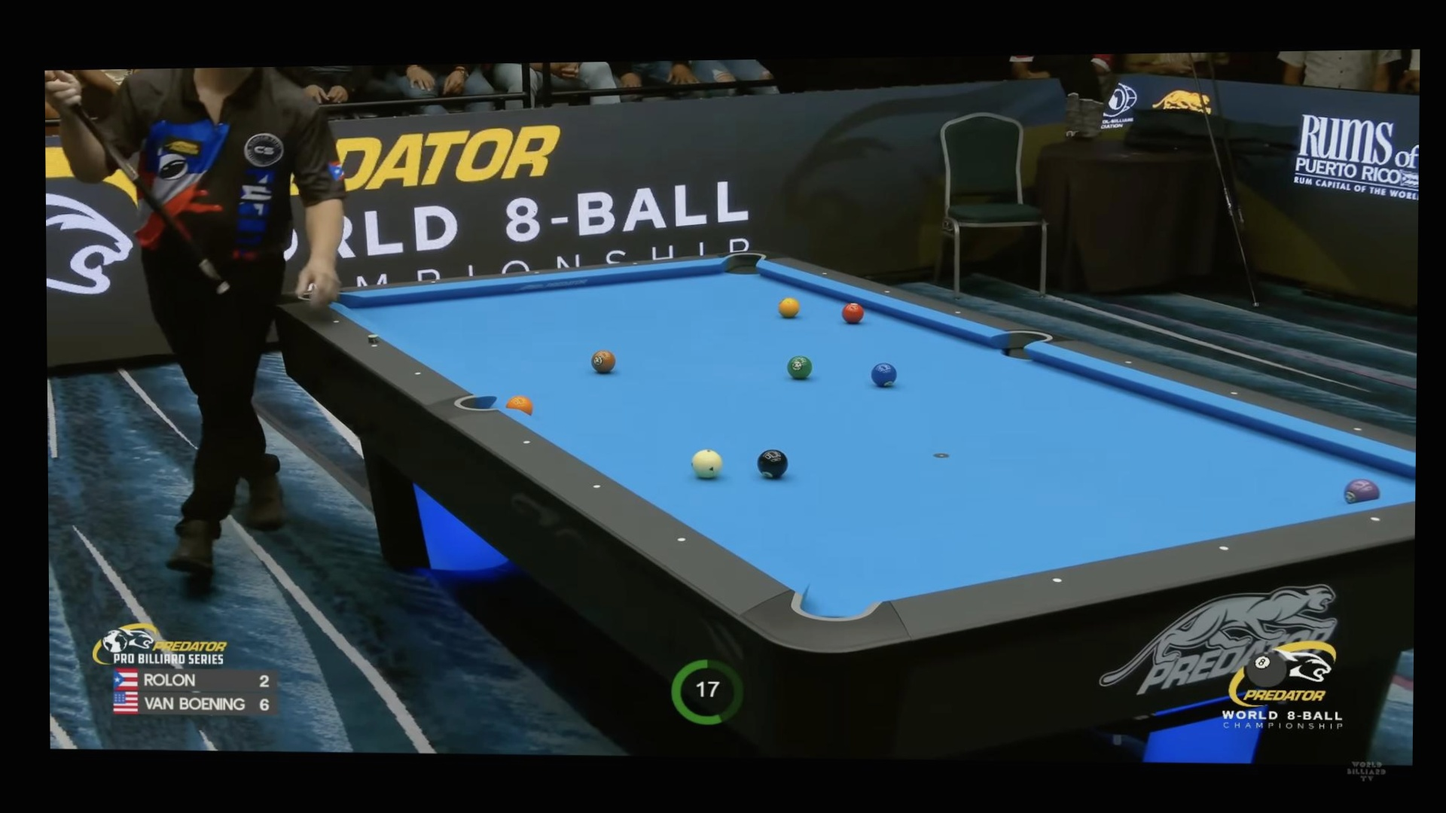Black: (675, 533, 688, 544), (590, 481, 603, 492), (521, 437, 534, 448), (1052, 575, 1063, 586), (1370, 514, 1381, 525), (1352, 423, 1363, 434), (1218, 543, 1230, 553), (414, 370, 422, 377), (954, 309, 962, 316), (821, 270, 829, 277), (371, 342, 378, 349), (333, 318, 340, 325), (884, 288, 891, 295), (1231, 391, 1238, 397), (1125, 359, 1132, 365), (430, 280, 436, 285), (534, 270, 540, 275), (632, 261, 638, 266)
Cue: (1345, 479, 1380, 504), (870, 362, 898, 388), (786, 355, 813, 379), (590, 349, 617, 373), (505, 396, 534, 417), (841, 302, 865, 323), (778, 297, 801, 318)
Solid: (756, 448, 789, 479)
Stripe: (690, 448, 723, 479)
